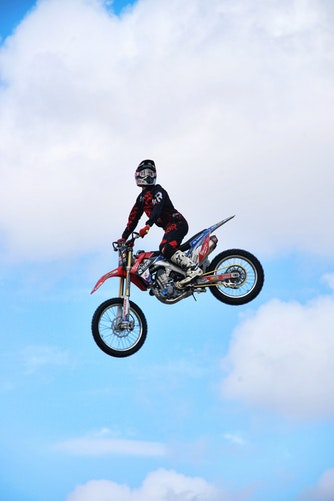helmet: (127, 155, 157, 188)
